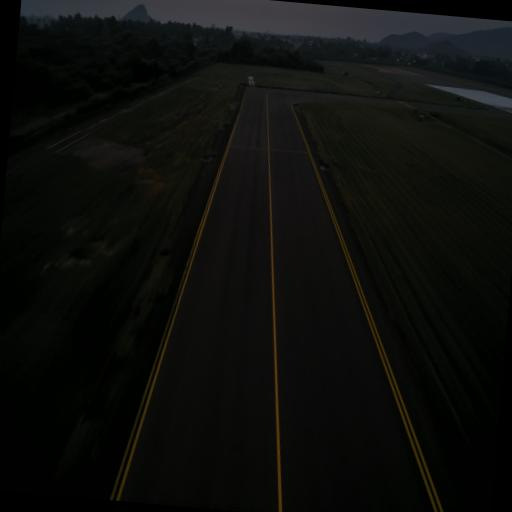on: (321, 162, 326, 168), (208, 154, 212, 160)
